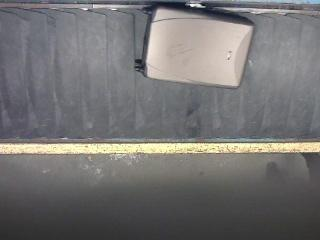Suitcase: (135, 6, 254, 88)
